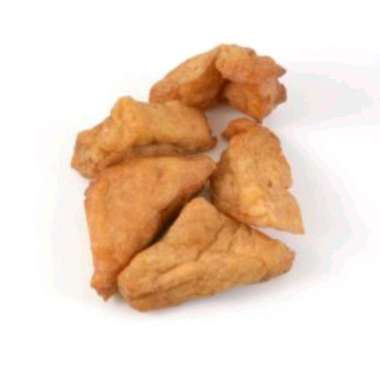Tahu: (68, 134, 201, 275), (142, 205, 286, 321), (219, 117, 324, 228), (97, 94, 214, 169)
